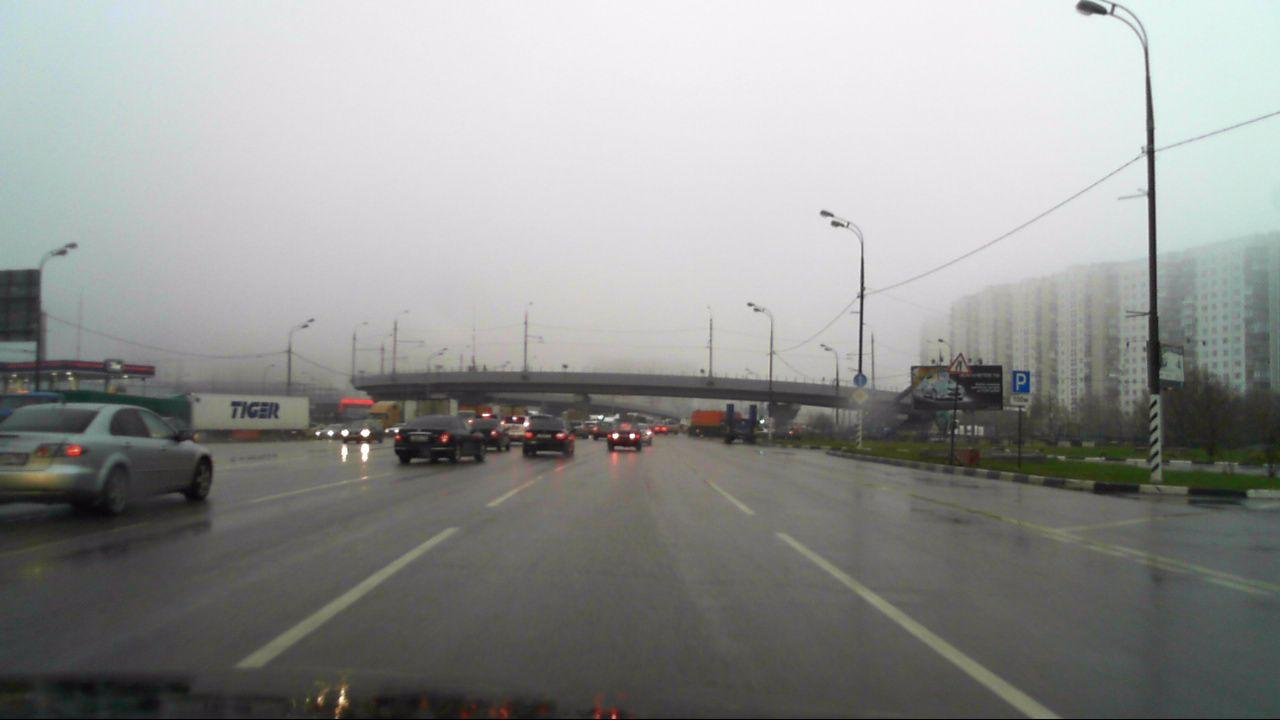1_20_3: (948, 352, 971, 375)
2_1: (852, 387, 868, 405)
4_1_1: (853, 372, 868, 386)
6_4: (1011, 369, 1033, 392)
8_1_1: (1010, 394, 1031, 405)
